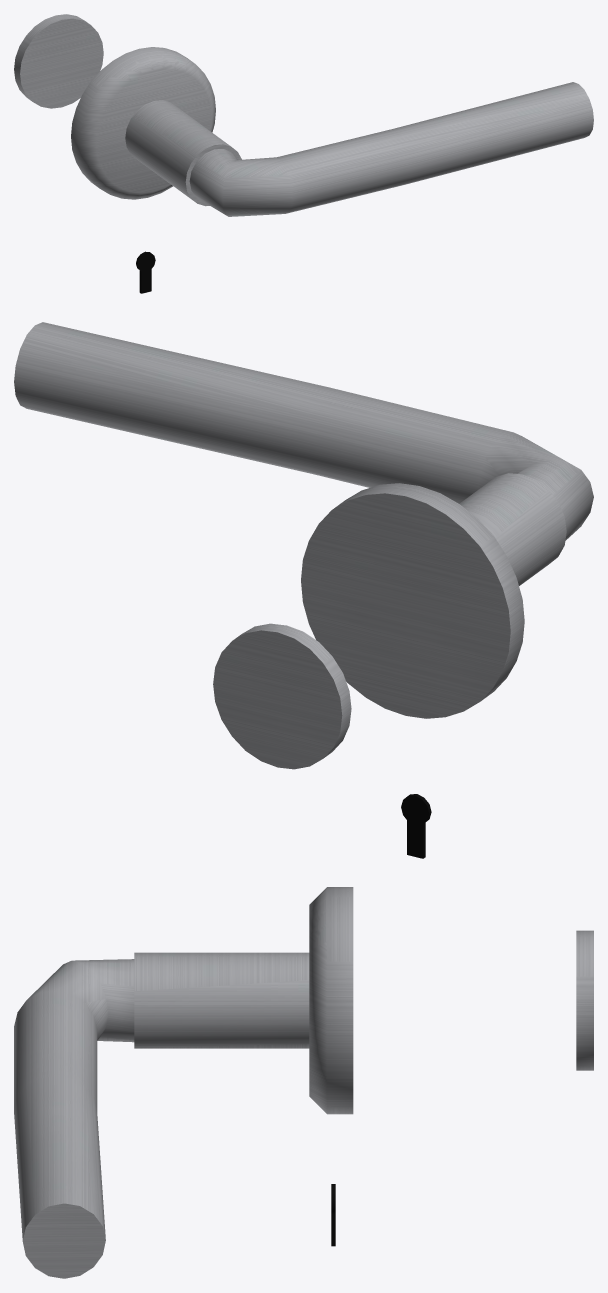
File: DoorLeverHandle.obj
The picture shows the model from 3 angles, top to bottom: view 1: azimuth 30°, elevation 25°; view 2: azimuth 150°, elevation 25°; view 3: azimuth 270°, elevation 25°; orthographic projection. The views are drawn at different scales.
Visible parts, largest first — view 1: Steel, Keyhole; view 2: Steel, Keyhole; view 3: Steel.
Part boxes in pixels (bbox=[...]): Steel: bbox=[14, 14, 593, 216]; Keyhole: bbox=[136, 251, 155, 293]; Steel: bbox=[14, 322, 593, 769]; Keyhole: bbox=[401, 794, 431, 858]; Steel: bbox=[14, 887, 593, 1278].
Size of the model in its own units: 0.1563 by 0.087 by 0.1325.
2 materials, 1 textured.
